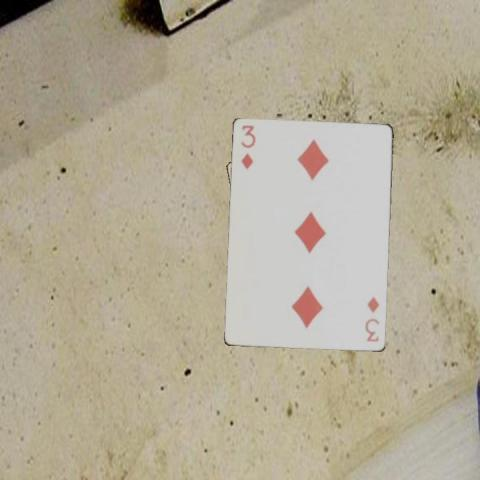3d: (362, 294, 381, 343), (238, 123, 257, 170)
